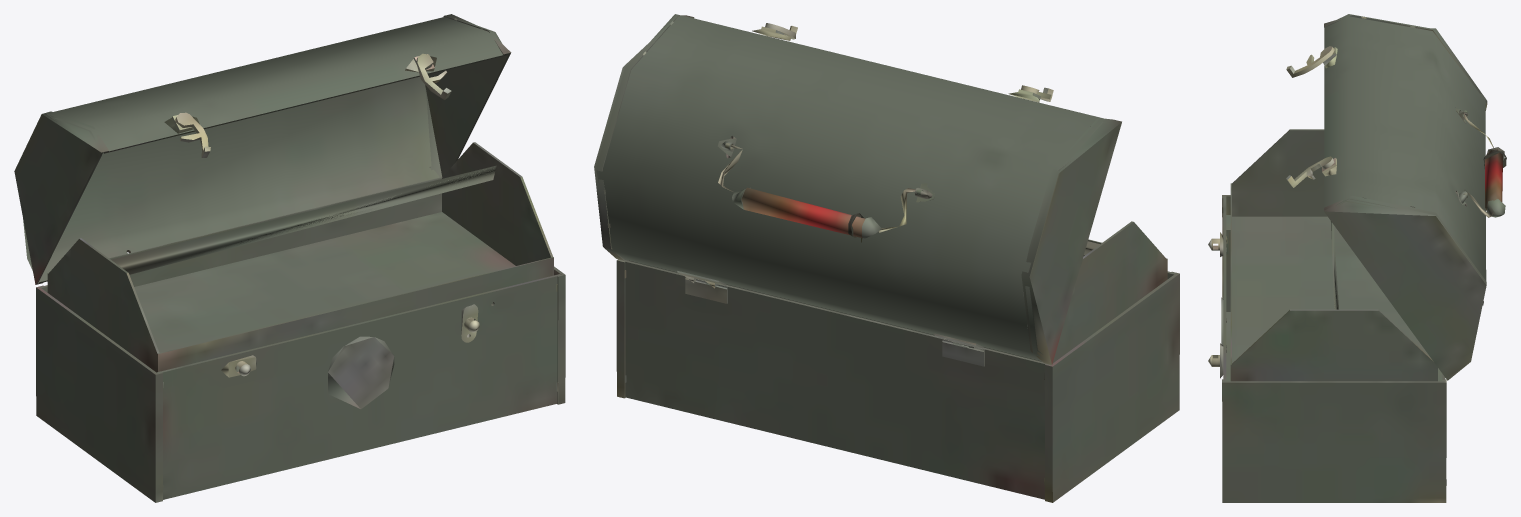
Rendered from toolbox_lo.glb.
The picture shows the model from 3 angles, left to right: view 1: azimuth 30°, elevation 25°; view 2: azimuth 150°, elevation 25°; view 3: azimuth 270°, elevation 25°; orthographic projection. The views are drawn at different scales.
Visible parts, largest first — view 1: Cylinder.015, metal_toolbox, metal_toolbox_tray, metal_toolbox_handle_latch_l, metal_toolbox_handle_latch_r; view 2: Cylinder.015, metal_toolbox, metal_toolbox_tray, metal_toolbox_handle; view 3: Cylinder.015, metal_toolbox_tray, metal_toolbox, metal_toolbox_handle, metal_toolbox_handle_latch_l, metal_toolbox_handle_latch_r.
Boxes of the visible parts, x1=… form: Cylinder.015: x1=14, y1=14, x2=511, y2=284; metal_toolbox: x1=36, y1=266, x2=565, y2=502; metal_toolbox_tray: x1=47, y1=142, x2=553, y2=372; metal_toolbox_handle_latch_l: x1=175, y1=112, x2=210, y2=157; metal_toolbox_handle_latch_r: x1=416, y1=53, x2=451, y2=99; Cylinder.015: x1=594, y1=14, x2=1121, y2=364; metal_toolbox: x1=616, y1=259, x2=1179, y2=502; metal_toolbox_tray: x1=629, y1=221, x2=1167, y2=363; metal_toolbox_handle: x1=718, y1=144, x2=915, y2=242; Cylinder.015: x1=1322, y1=14, x2=1487, y2=380; metal_toolbox_tray: x1=1230, y1=129, x2=1437, y2=381; metal_toolbox: x1=1208, y1=195, x2=1446, y2=502; metal_toolbox_handle: x1=1463, y1=113, x2=1506, y2=217; metal_toolbox_handle_latch_l: x1=1286, y1=46, x2=1334, y2=77; metal_toolbox_handle_latch_r: x1=1286, y1=156, x2=1334, y2=187.
Bounding box in the file's own units: 0.4 × 0.3047 × 0.2692.
Materials: 1 (1 with a texture image).
